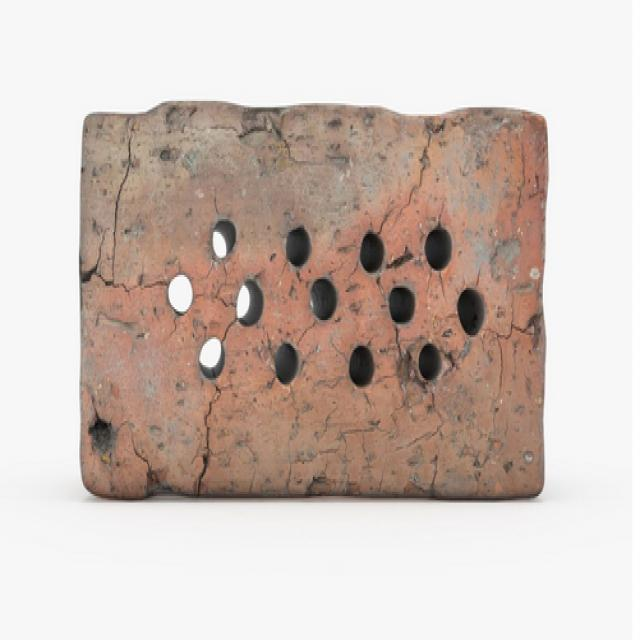bricks_ruin: (79, 100, 551, 502)
